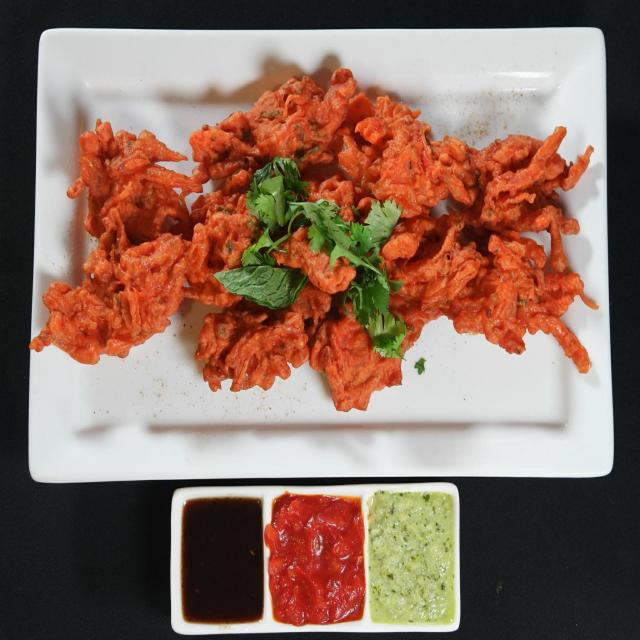Onion Pakora: (28, 65, 597, 410)
